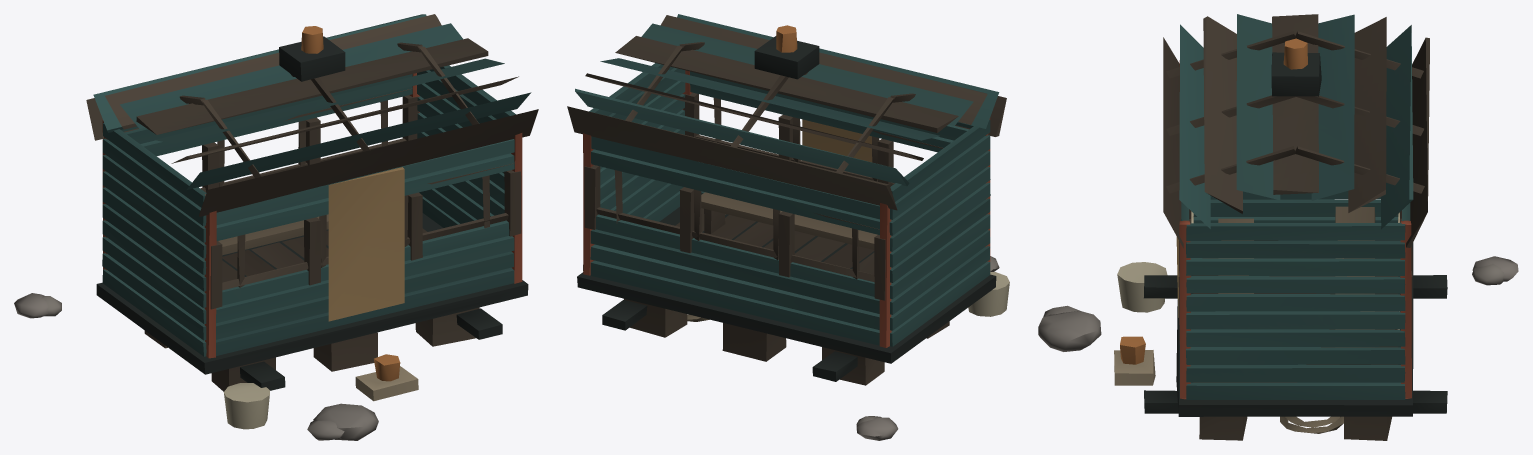
File: tram_car_parked_a_lod2.glb
3 views of the same model, side by side, from view 1: azimuth 30°, elevation 25°; view 2: azimuth 150°, elevation 25°; view 3: azimuth 270°, elevation 25° (orthographic). The views are drawn at different scales.
Visible parts, largest first — view 1: Surface.001; view 2: Surface.001; view 3: Surface.001.
Boxes of the visible parts, box(x1,y1,x2,y2) form: Surface.001: box(14, 14, 538, 440); Surface.001: box(567, 14, 1009, 440); Surface.001: box(1038, 14, 1518, 440).
Bounding box in the file's own units: 5.44 × 4.4 × 5.64.
